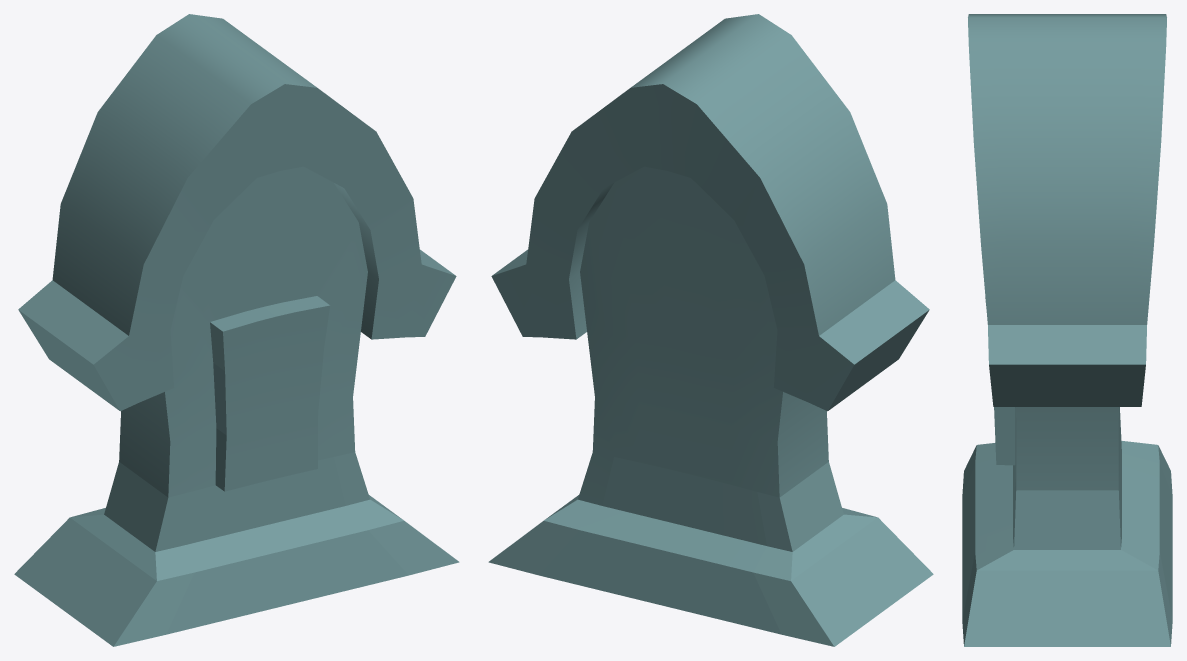
The model's file is Cementery_Tombstone5.fbx.
3 views of the same model, side by side, from view 1: azimuth 30°, elevation 25°; view 2: azimuth 150°, elevation 25°; view 3: azimuth 270°, elevation 25° (orthographic). The views are drawn at different scales.
Visible parts, largest first — view 1: GraveStone_010; view 2: GraveStone_010; view 3: GraveStone_010.
Part boxes in pixels (bbox=[...]): GraveStone_010: bbox=[14, 14, 459, 646]; GraveStone_010: bbox=[488, 14, 933, 646]; GraveStone_010: bbox=[962, 14, 1172, 646].
Size of the model in its own units: 42.58 by 58.21 by 20.51.
